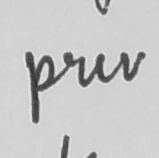e: (91, 51, 113, 84)
p: (23, 49, 57, 125)
r: (59, 49, 88, 90)
v: (117, 48, 147, 83)
